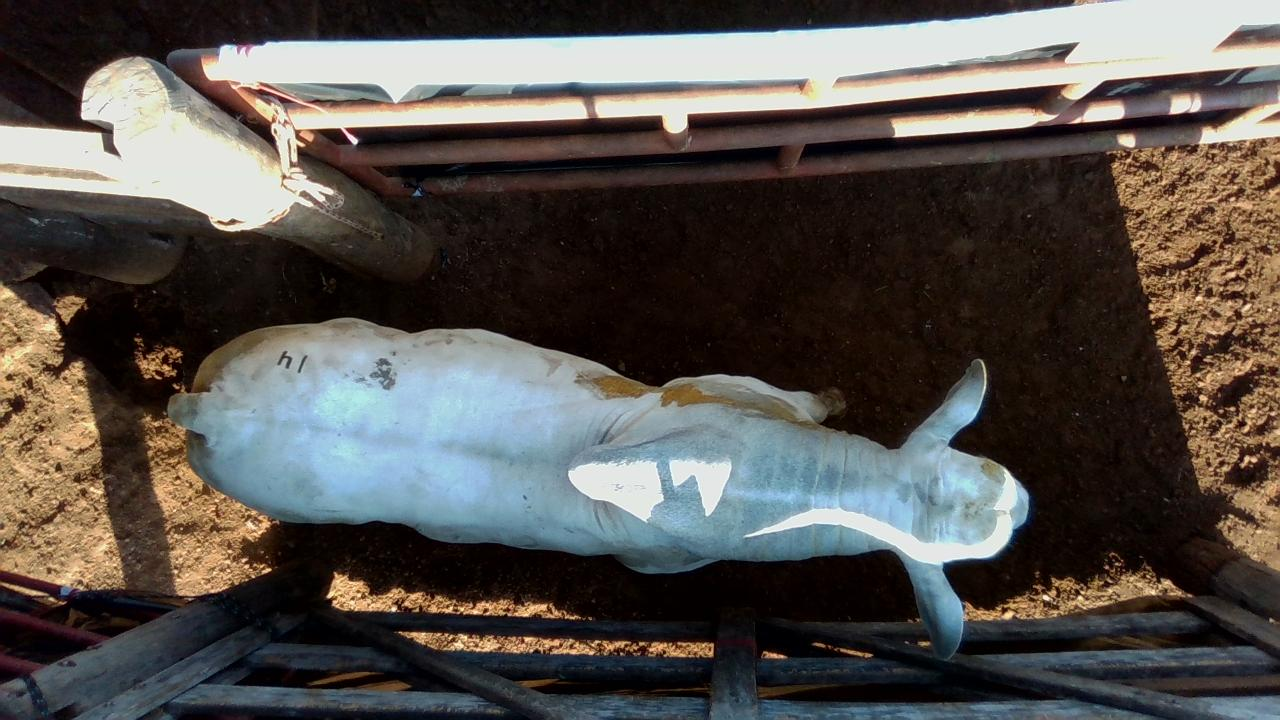cattle: (166, 315, 1031, 662)
